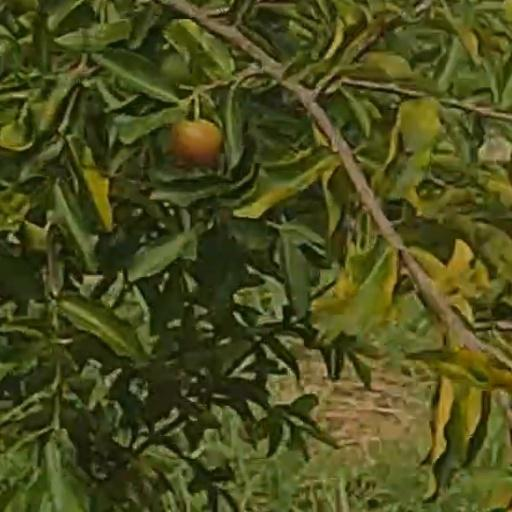acerola_vermelha: (176, 123, 222, 162)
